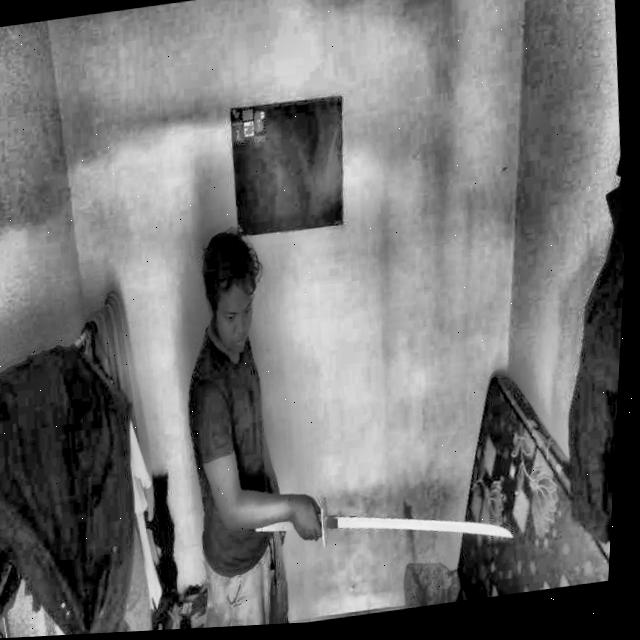robbery: (155, 182, 539, 630)
